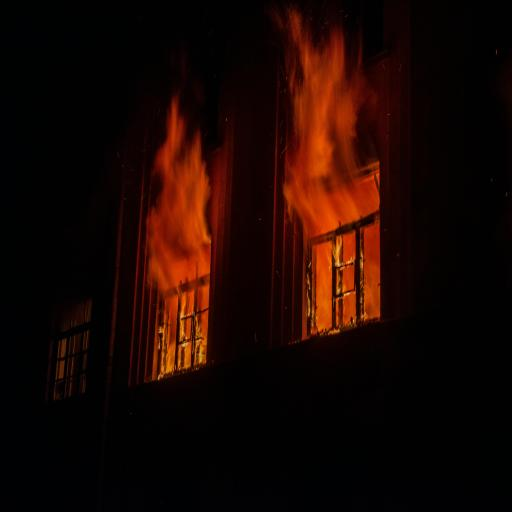buildingfire: (2, 12, 512, 367)
